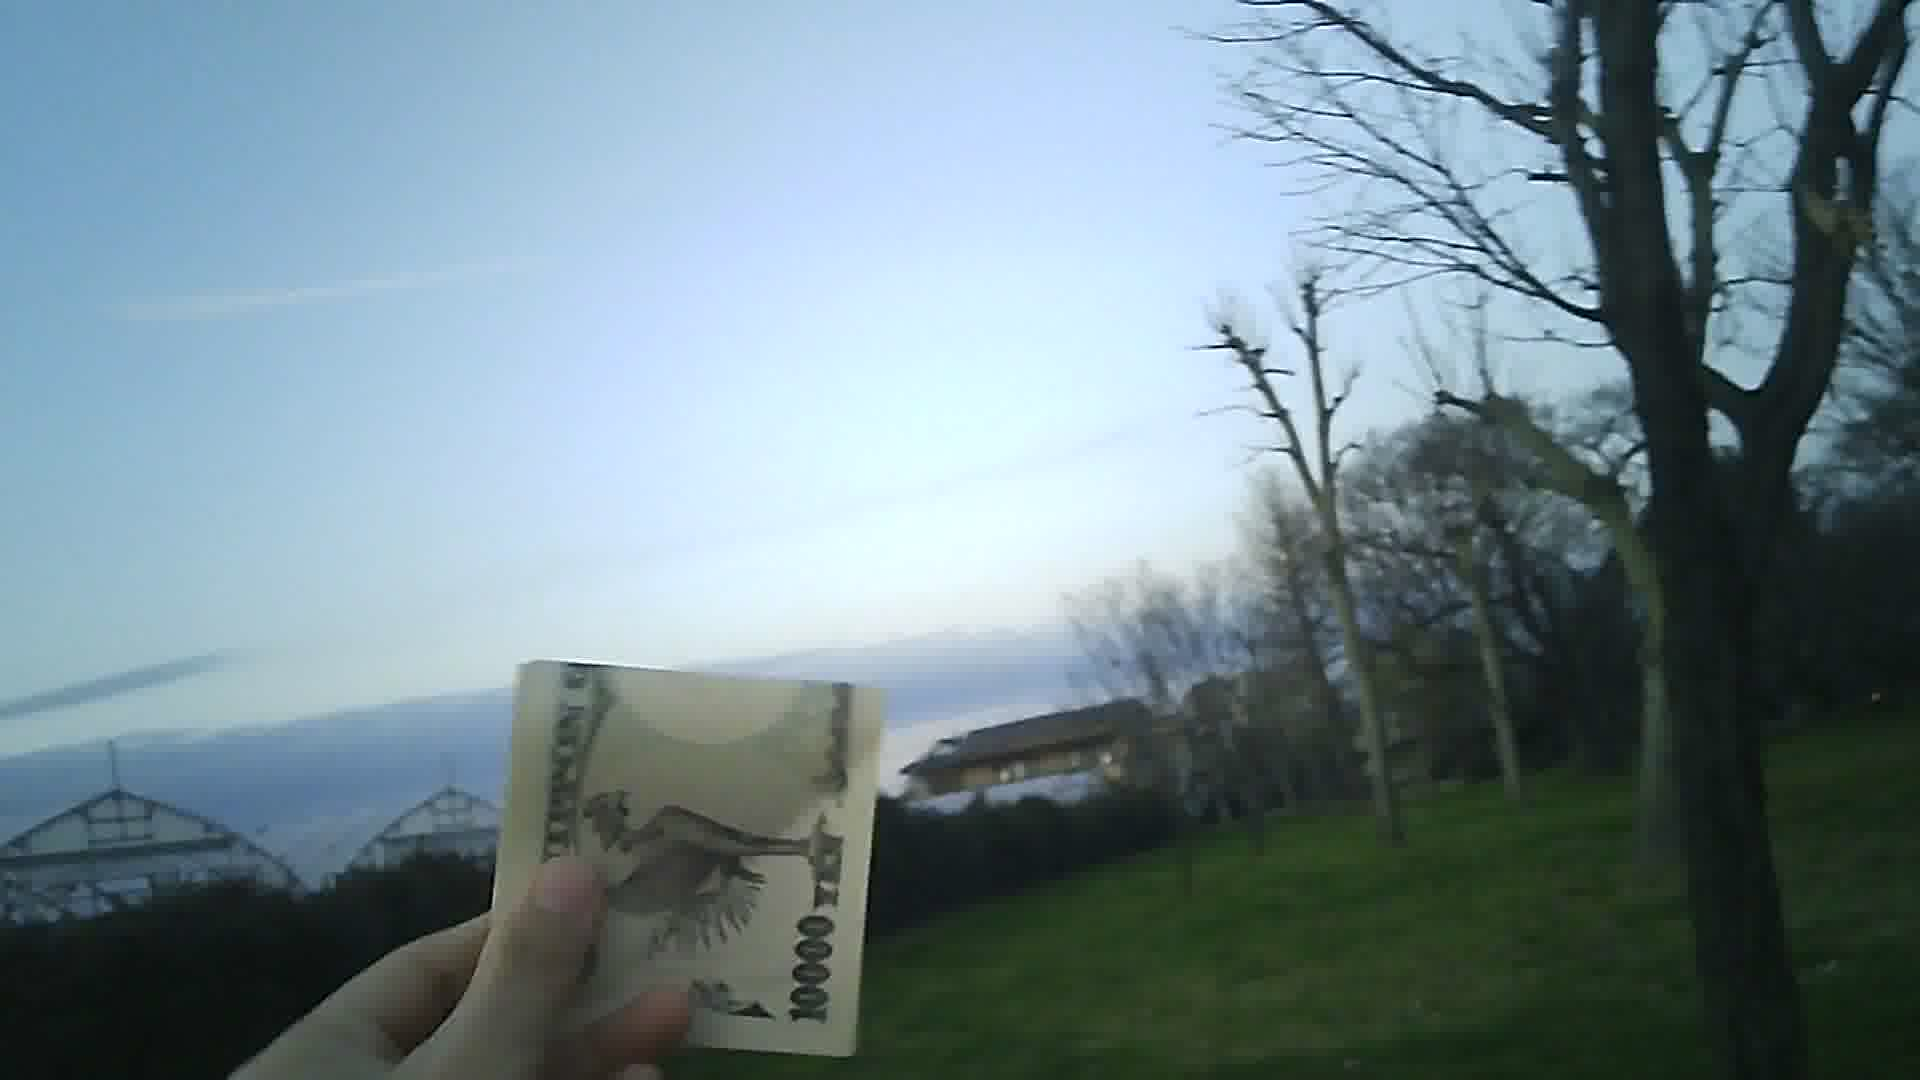10,000 Yen: (462, 638, 910, 1050)
